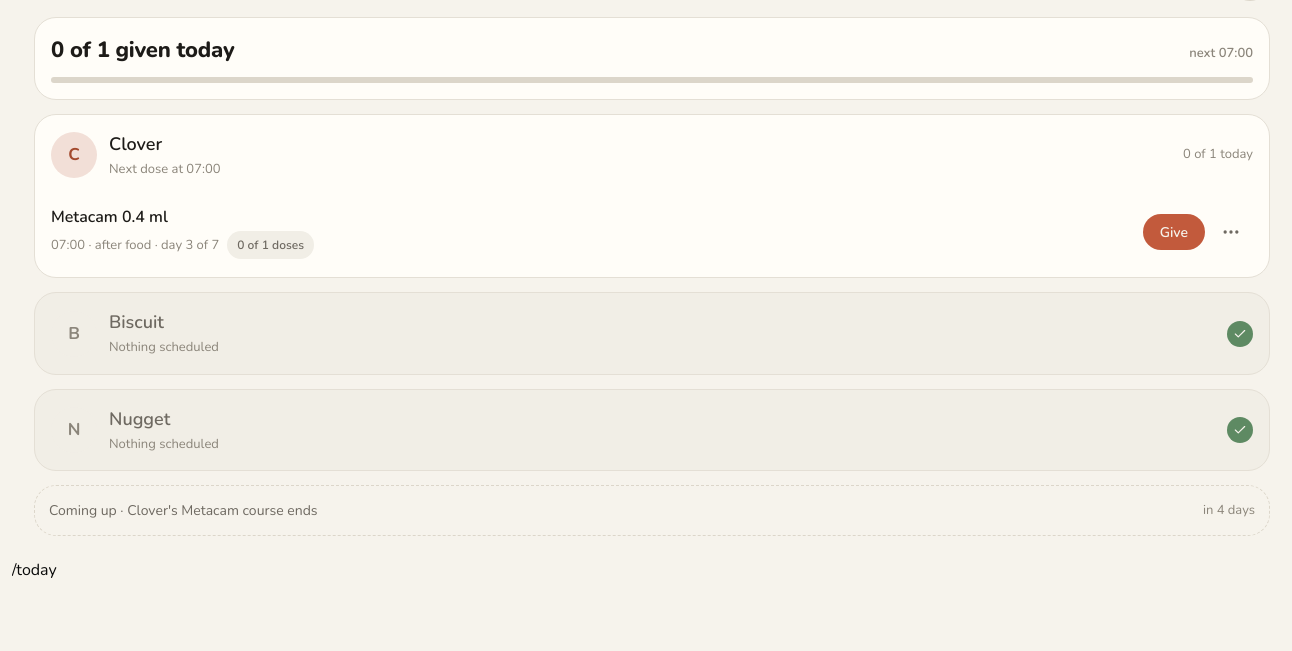
TodayPage › logs a dose in one tap without leaving the dashboard
Expected: the text "0 of 1 today" is shown, [1183, 145, 1253, 165]
Click the button "Give".
click(1174, 232)  # box [1143, 214, 1205, 250]
(page scrolled)
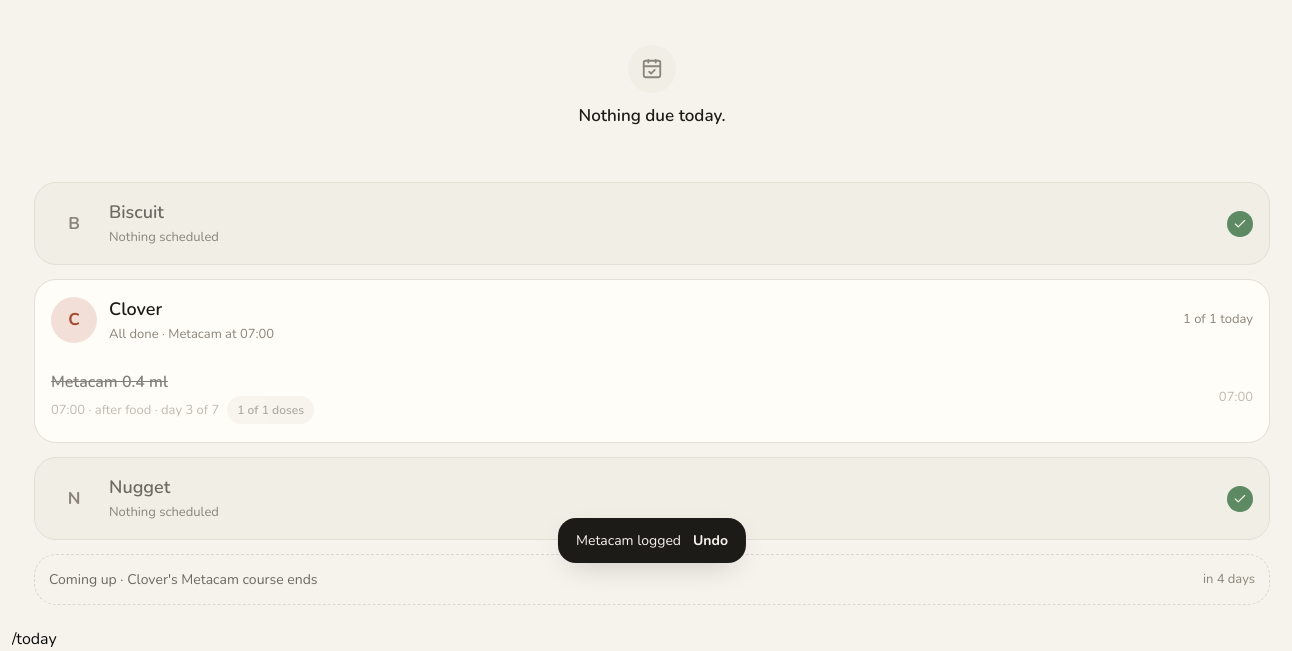
Expected: the text with test id "pathname" reads "/today", [12, 628, 57, 650]
Now the element named "Metacam 0.4 ml, given" is shown, box [51, 368, 1253, 426]
Now the text "1 of 1 today" is shown, box [1183, 310, 1253, 330]
